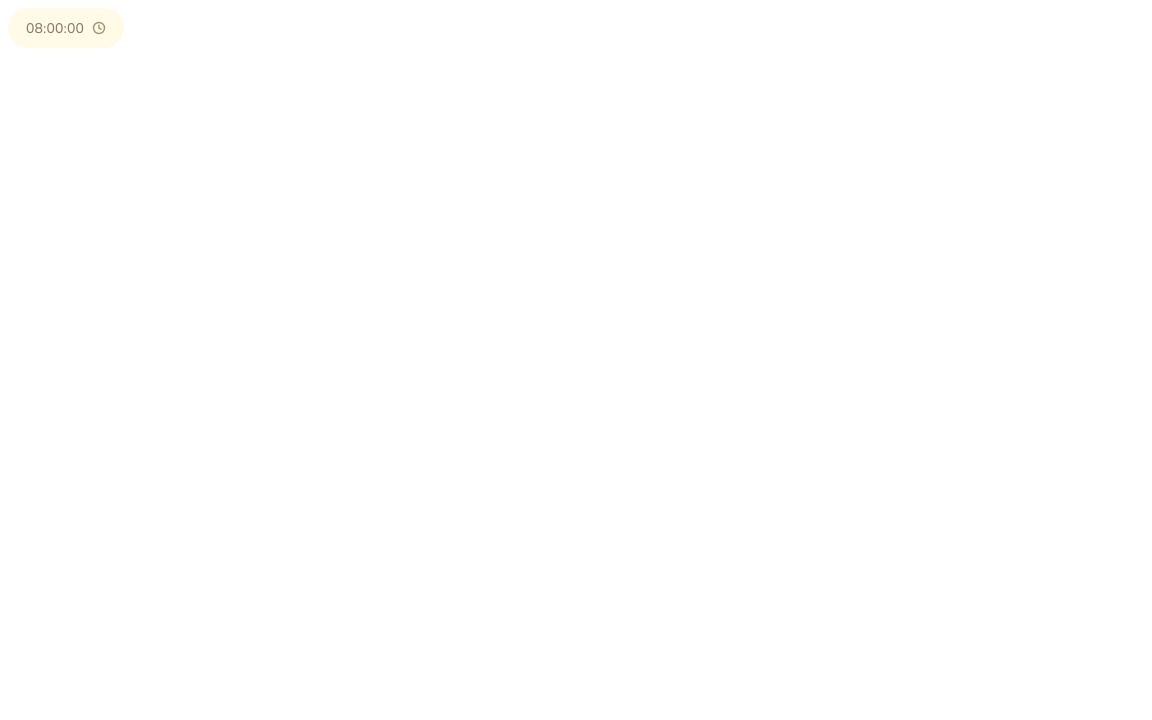
Scenario: TimePicker › 展开与选择 › 选择时分秒后点击确定提交并关闭
Click the dropdown at [66, 28], box x1=8 y1=8 x2=124 y2=48
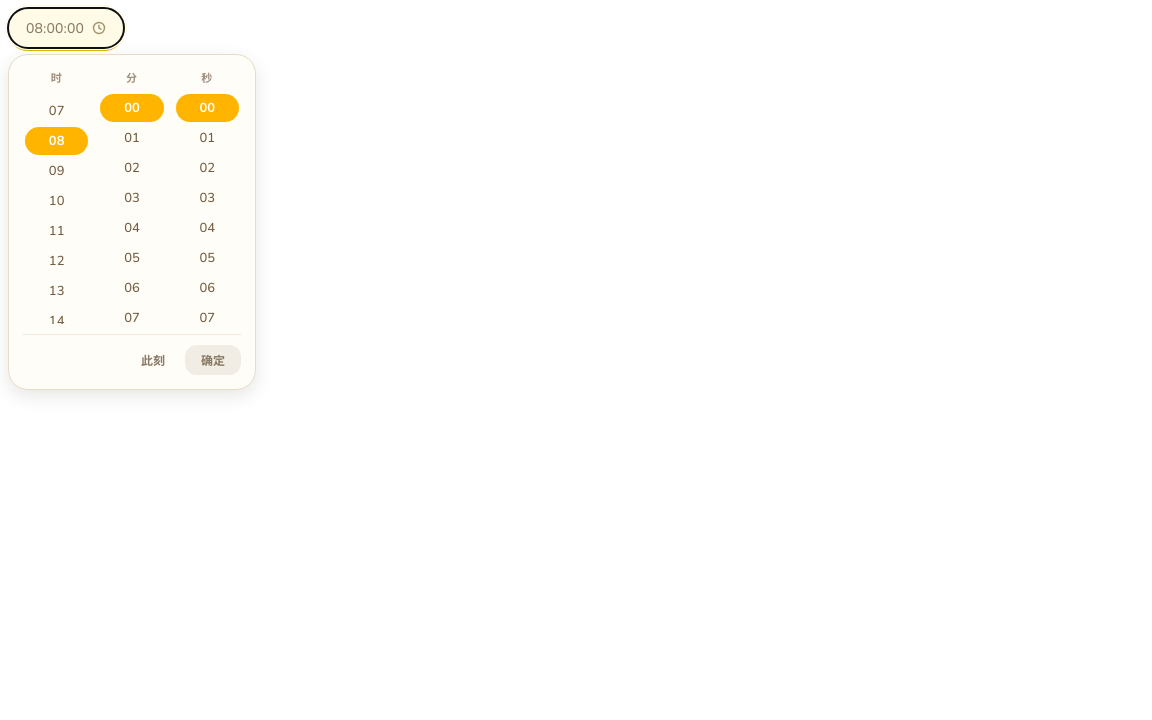
Click the button named "10 时" at [57, 201], box x1=25 y1=187 x2=88 y2=215
(page scrolled)
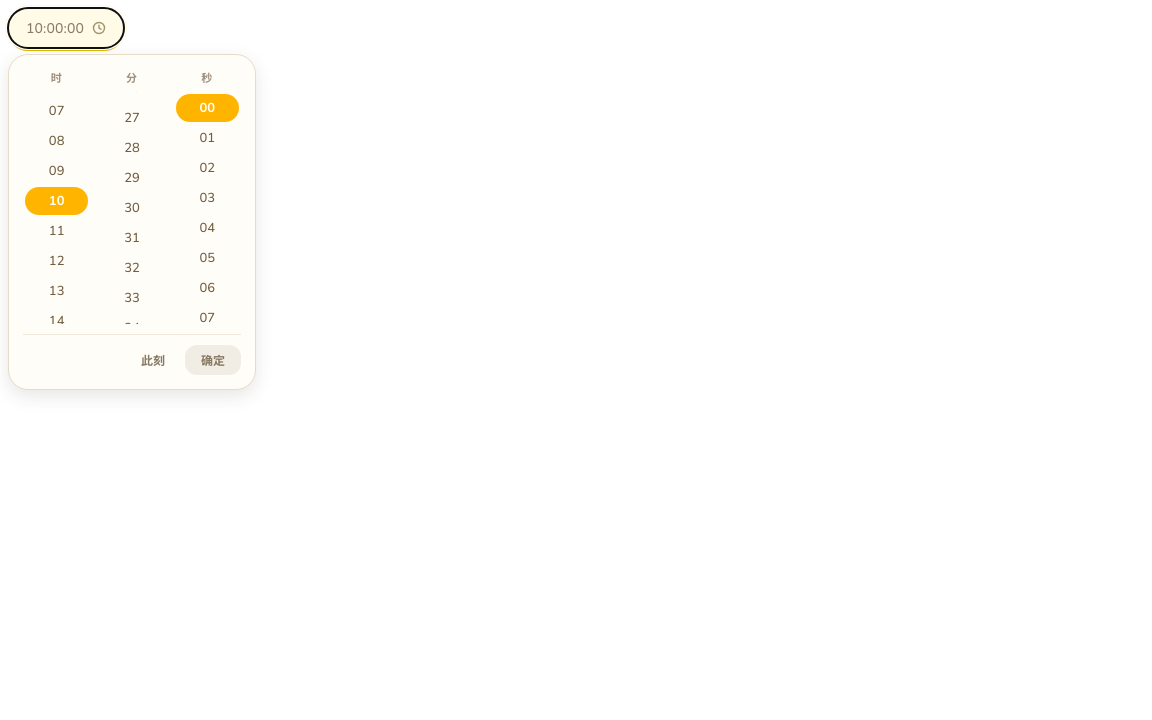
Click the button named "30 分" at [132, 208], box x1=100 y1=194 x2=164 y2=222
(page scrolled)
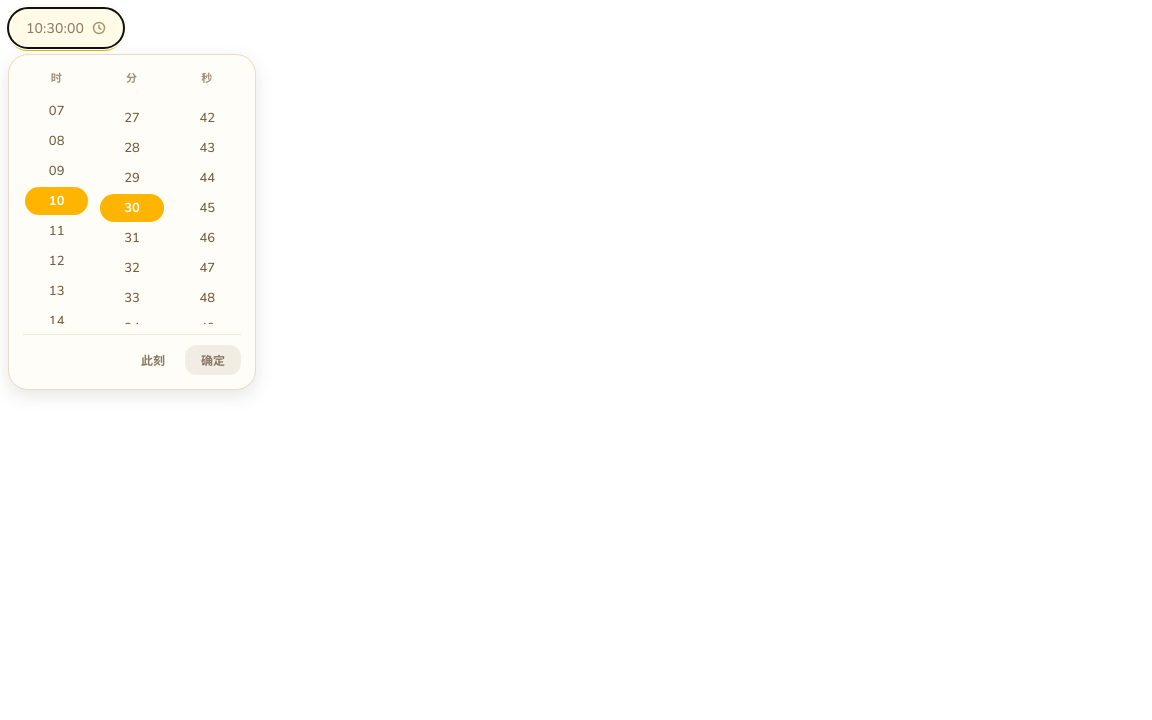
Click the button named "45 秒" at [207, 208], box x1=176 y1=194 x2=239 y2=222
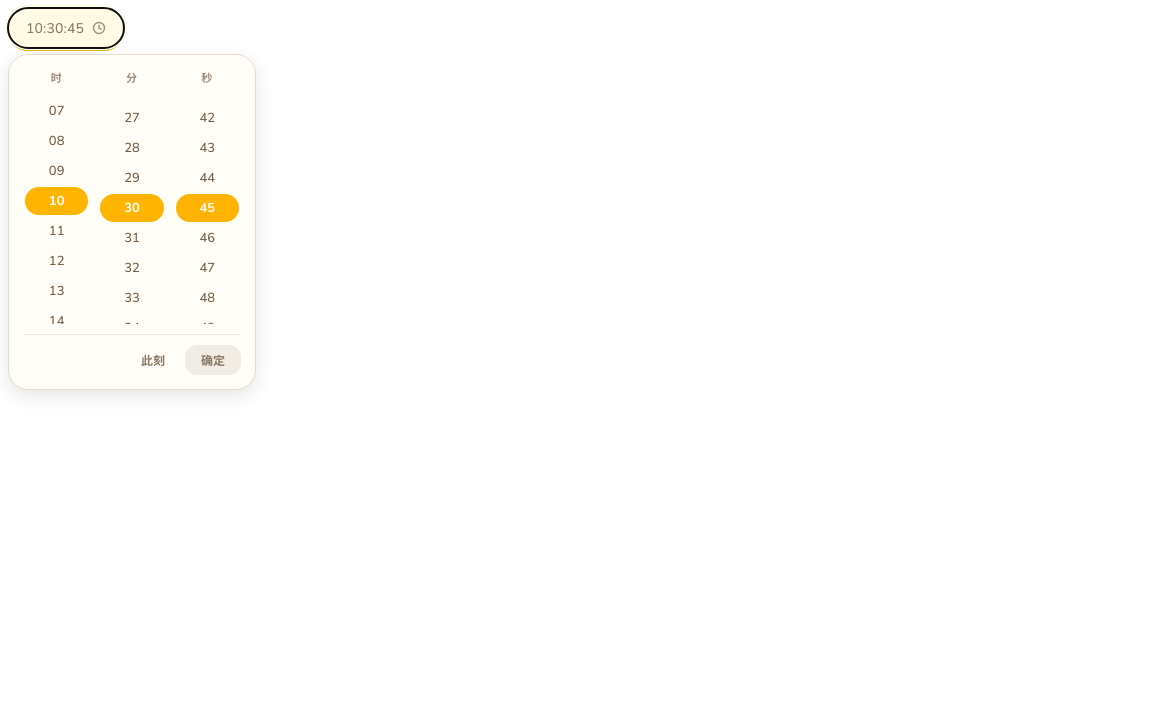
Click the button "确定" at [213, 360], box x1=185 y1=345 x2=241 y2=375
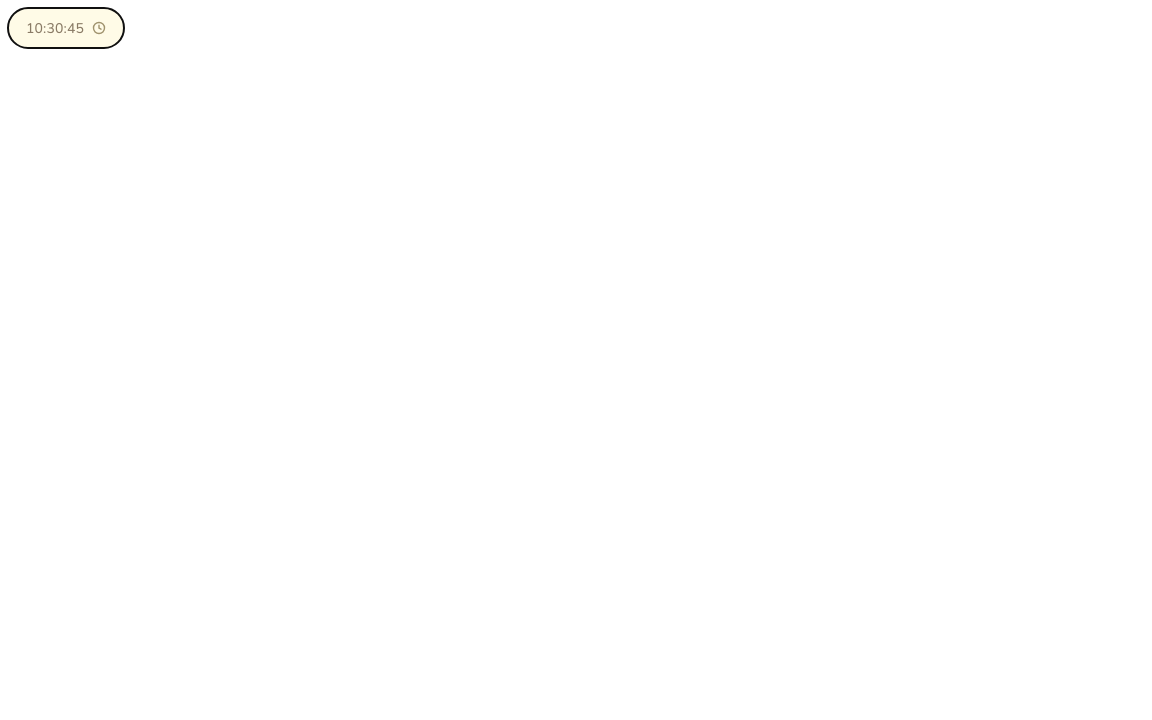
Result: the dialog is gone
